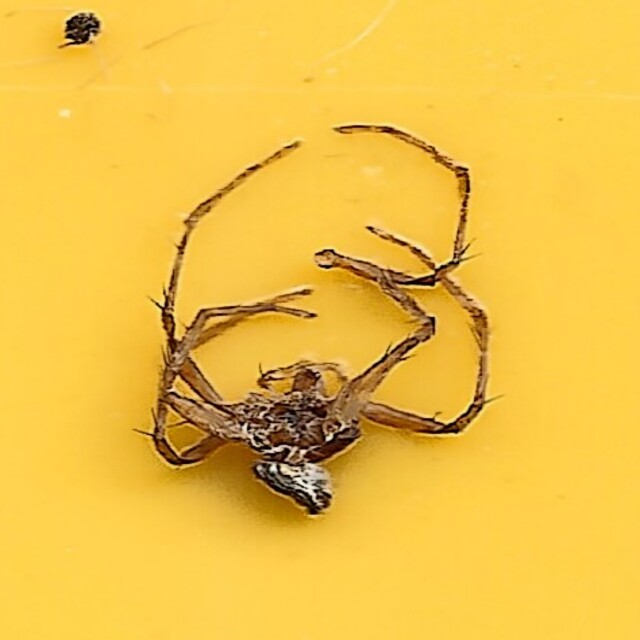Araneae: (135, 121, 505, 519)
